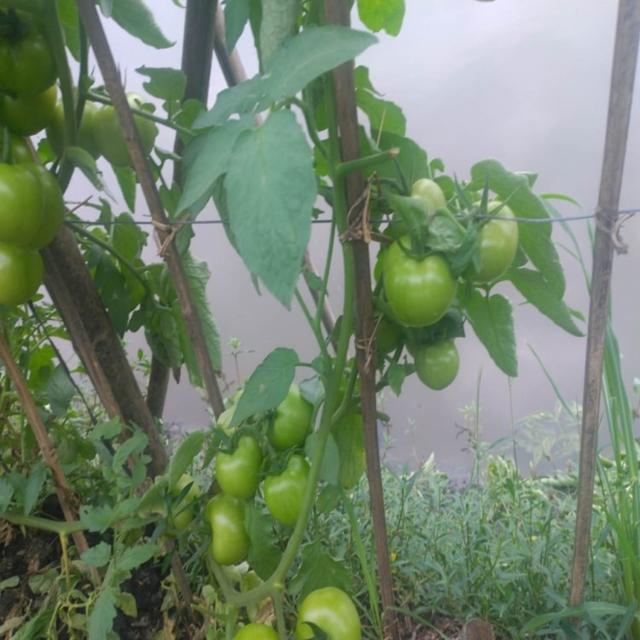tomato: (365, 225, 463, 338), (456, 191, 521, 287), (1, 153, 69, 242), (1, 3, 63, 89), (293, 574, 371, 640), (200, 494, 254, 579), (210, 417, 261, 497), (261, 453, 316, 525), (2, 82, 64, 142), (81, 97, 135, 165), (386, 170, 451, 224), (261, 381, 306, 454), (410, 335, 462, 397), (1, 242, 49, 309)
